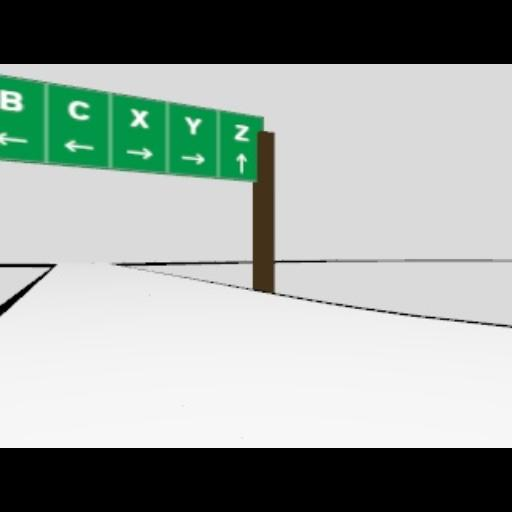B: (0, 88, 24, 112)
C: (65, 100, 91, 120)
Left: (0, 131, 28, 145), (62, 140, 94, 152)
Right: (123, 146, 153, 160), (179, 152, 205, 164)
Straight: (236, 152, 246, 172)
X: (130, 108, 148, 128)
Y: (184, 116, 202, 134)
Z: (232, 123, 250, 141)
